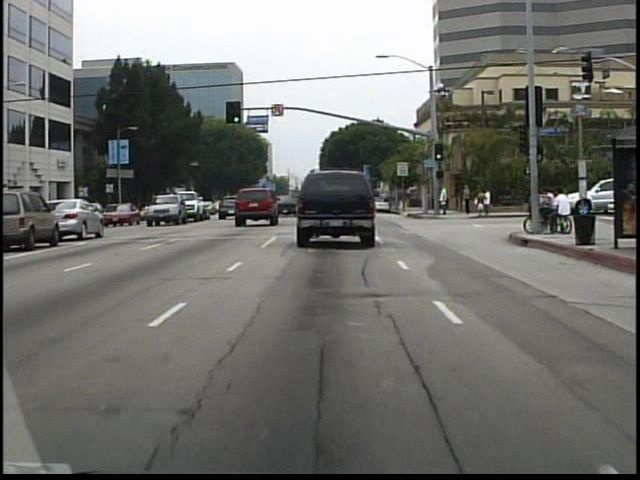person: (436, 183, 450, 218), (460, 182, 473, 218), (398, 186, 410, 213)
